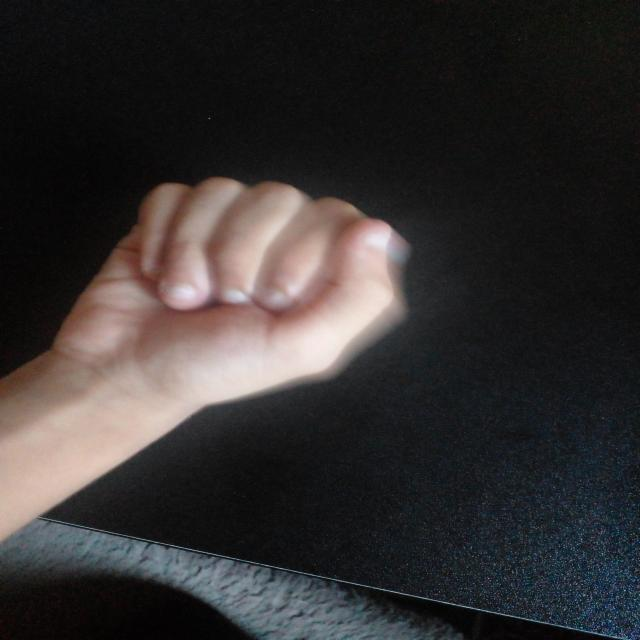Closed Hand: (72, 174, 412, 409)
